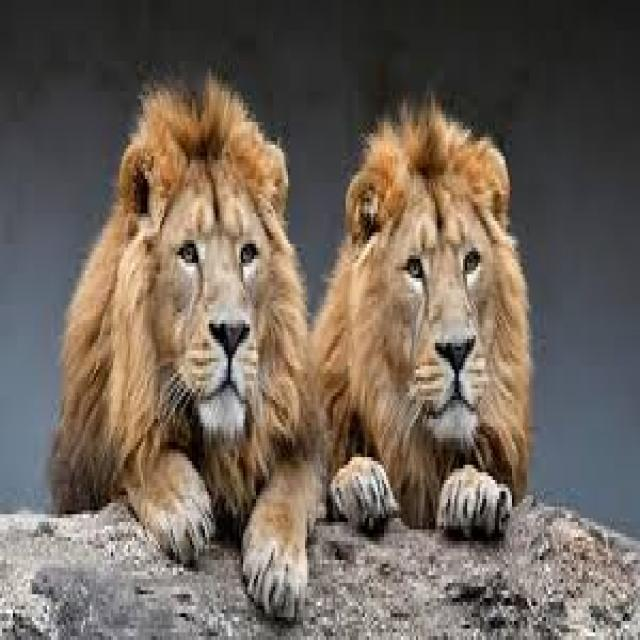Lion: (97, 102, 321, 614), (332, 118, 533, 532)
